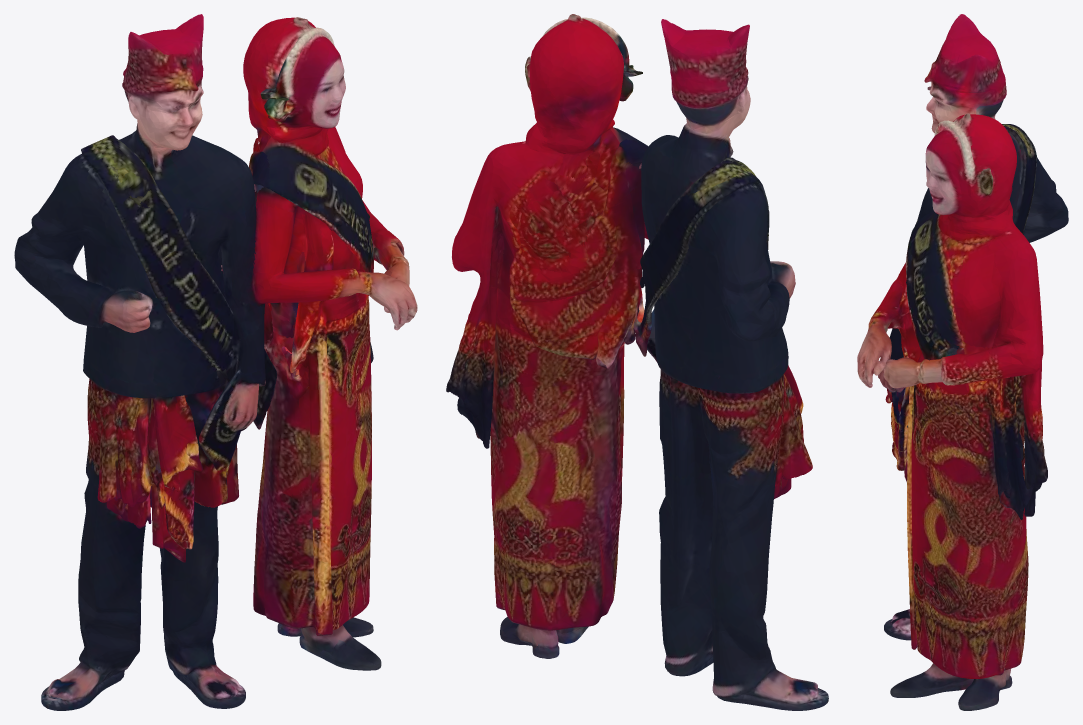
File: jebeng-thulik.glb
3 views of the same model, side by side, from view 1: azimuth 30°, elevation 25°; view 2: azimuth 150°, elevation 25°; view 3: azimuth 270°, elevation 25° (orthographic). The views are drawn at different scales.
Visible parts, largest first — view 1: Object_4; view 2: Object_4; view 3: Object_4.
Part boxes in pixels (x1,y1,x2,y2): Object_4: [14, 14, 417, 710]; Object_4: [446, 14, 828, 710]; Object_4: [857, 14, 1068, 710].
Size of the model in its own units: 0.5488 by 0.9998 by 0.3234.
Materials: 1 (1 with a texture image).
